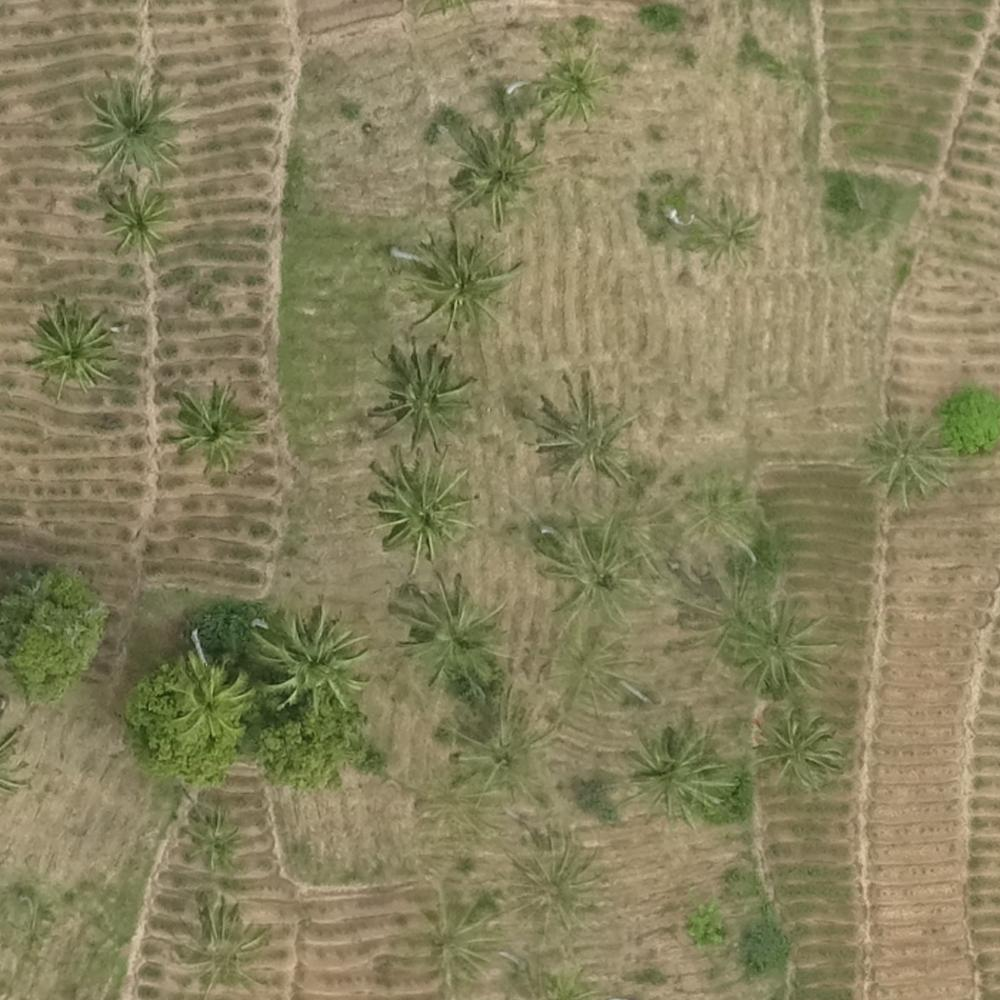Palm: (365, 450, 469, 556), (408, 225, 510, 328), (532, 379, 631, 482), (399, 579, 507, 673), (262, 612, 366, 709), (729, 597, 829, 694), (374, 343, 471, 440), (81, 81, 178, 177), (627, 727, 724, 819), (863, 417, 951, 502), (452, 130, 540, 212), (172, 383, 254, 464), (32, 305, 110, 390), (755, 709, 840, 783), (171, 655, 243, 733), (100, 178, 170, 247), (538, 54, 608, 123), (180, 807, 243, 872), (693, 201, 755, 264)
